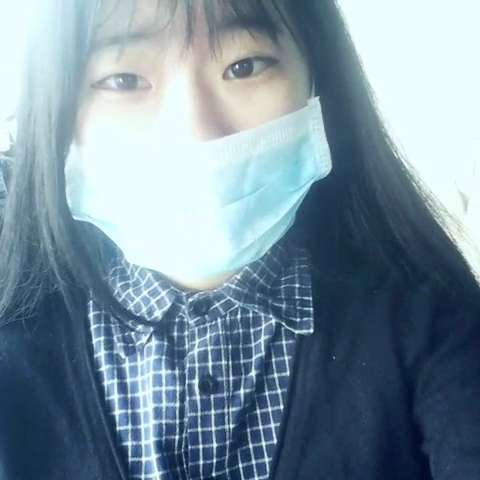face_mask: (68, 0, 308, 274)
